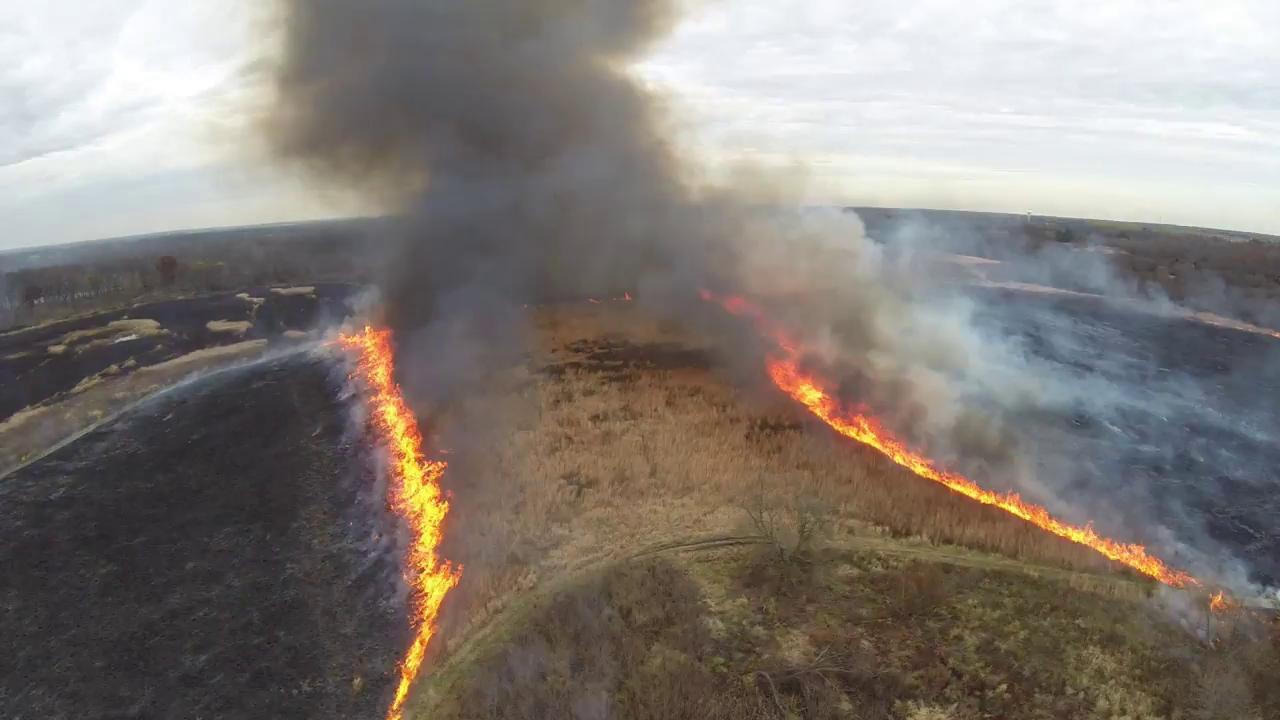forest_fire: (703, 291, 1199, 587), (338, 326, 460, 718)
